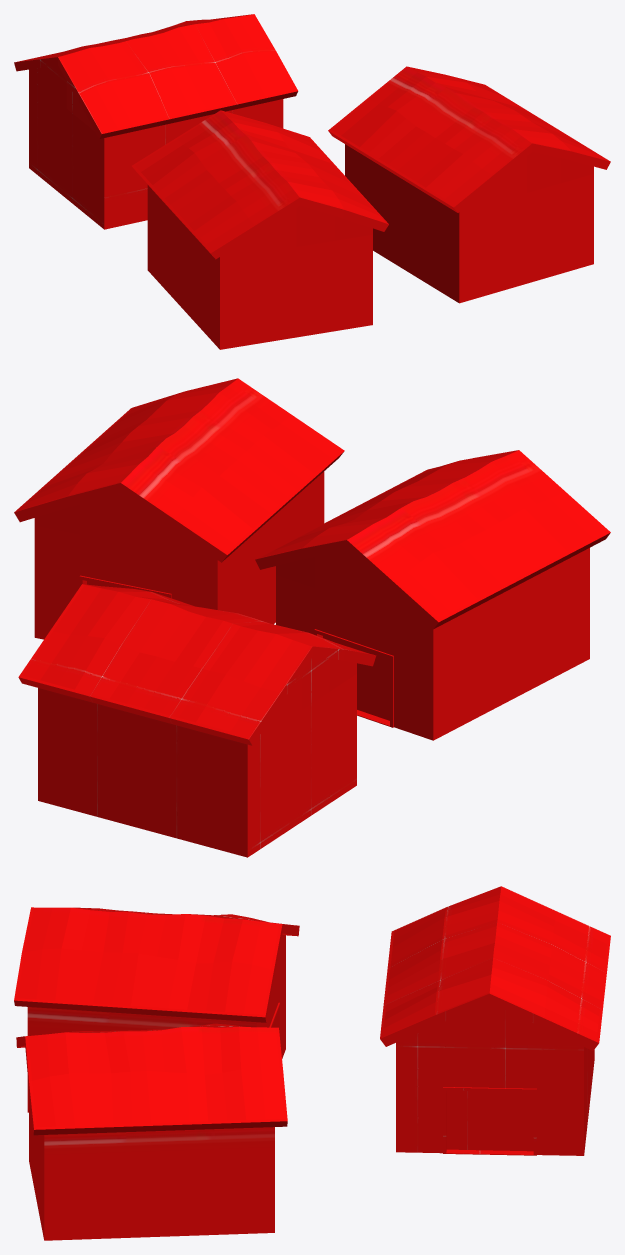
The model's file is SettlementOne.fbx.
3 renders of one model, top to bottom at view 1: azimuth 30°, elevation 25°; view 2: azimuth 150°, elevation 25°; view 3: azimuth 270°, elevation 25°, orthographic. The views are drawn at different scales.
Visible parts, largest first — view 1: Settlement; view 2: Settlement; view 3: Settlement.
Boxes of the visible parts, bbox=[...] form: Settlement: bbox=[14, 14, 610, 349]; Settlement: bbox=[14, 378, 610, 857]; Settlement: bbox=[14, 886, 610, 1240].
Size of the model in its own units: 32.36 by 11.55 by 36.95.
